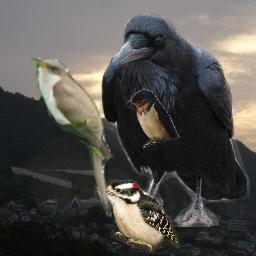Crow: (99, 12, 250, 227)
Cuckoo: (26, 53, 115, 219)
Swallow: (127, 89, 180, 150)
Woodpecker: (94, 179, 180, 254)
